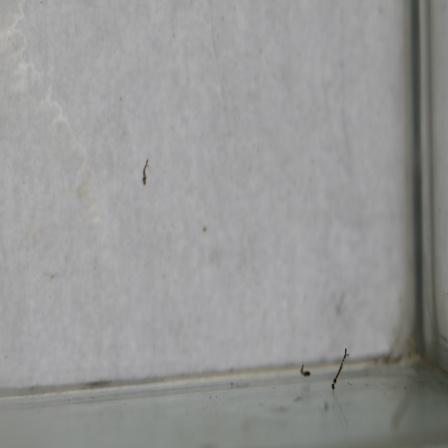Jentik-Nyamuk: (327, 345, 352, 393), (138, 155, 151, 188), (296, 362, 313, 382)
